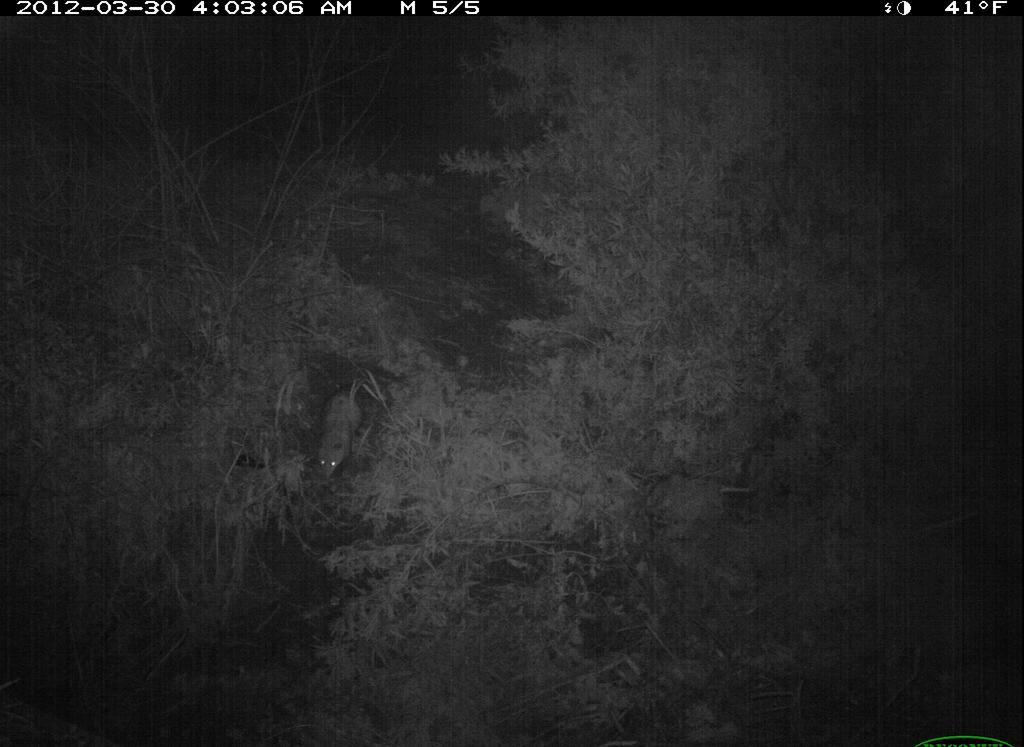opossum: (312, 372, 374, 483)
